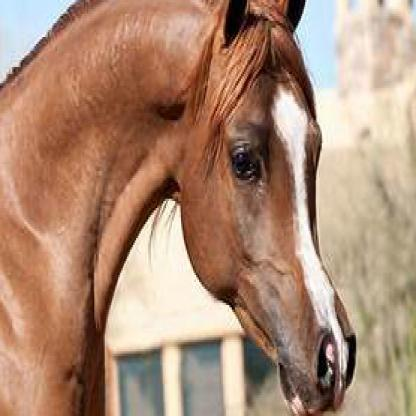horse: (2, 0, 358, 414)
